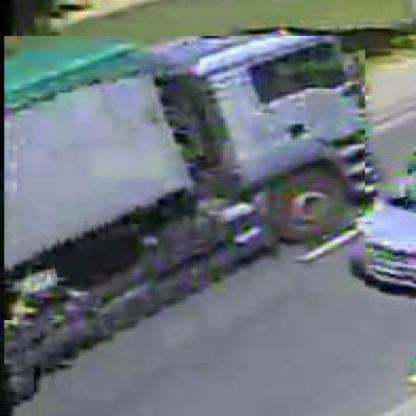container: (3, 37, 366, 367)
